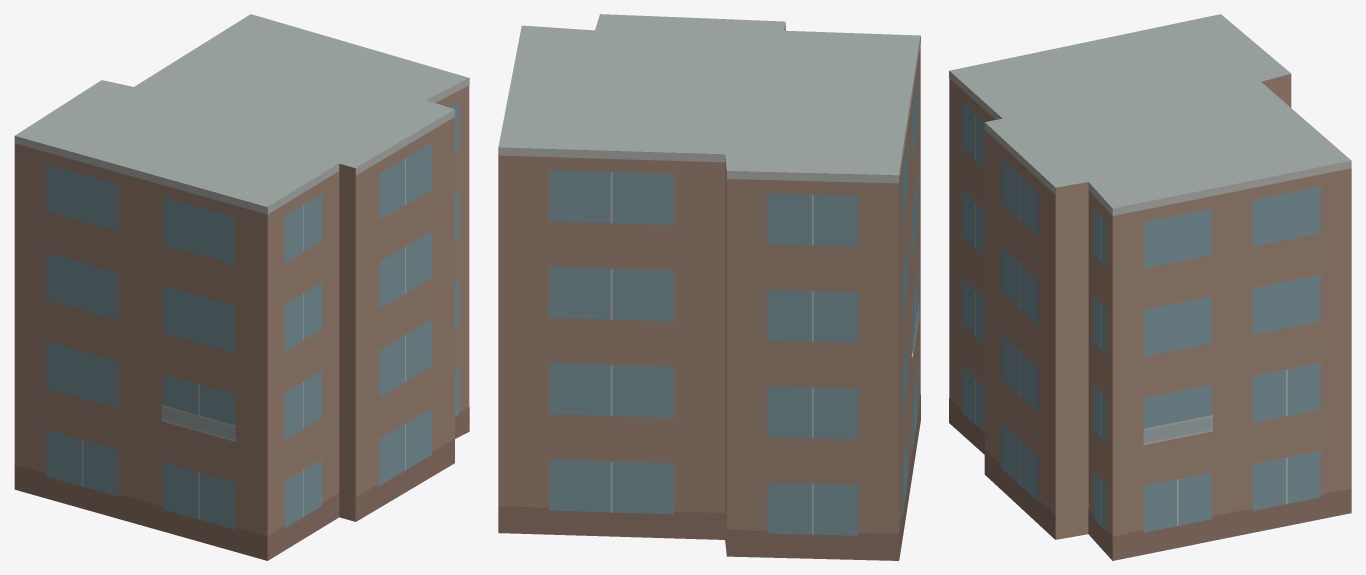
File: survey-upis-32600444.glb
3 renders of one model, left to right at view 1: azimuth 30°, elevation 25°; view 2: azimuth 150°, elevation 25°; view 3: azimuth 270°, elevation 25°, orthographic. The views are drawn at different scales.
Parts seen in each view (by area): view 1: survey-upis-32600444.tmp; view 2: survey-upis-32600444.tmp; view 3: survey-upis-32600444.tmp.
Boxes of the visible parts, x1,y1,x2,y2 form: survey-upis-32600444.tmp: [14, 14, 469, 560]; survey-upis-32600444.tmp: [498, 14, 920, 560]; survey-upis-32600444.tmp: [949, 14, 1351, 560].
Size of the model in its own units: 13.75 by 11.6 by 12.02.
